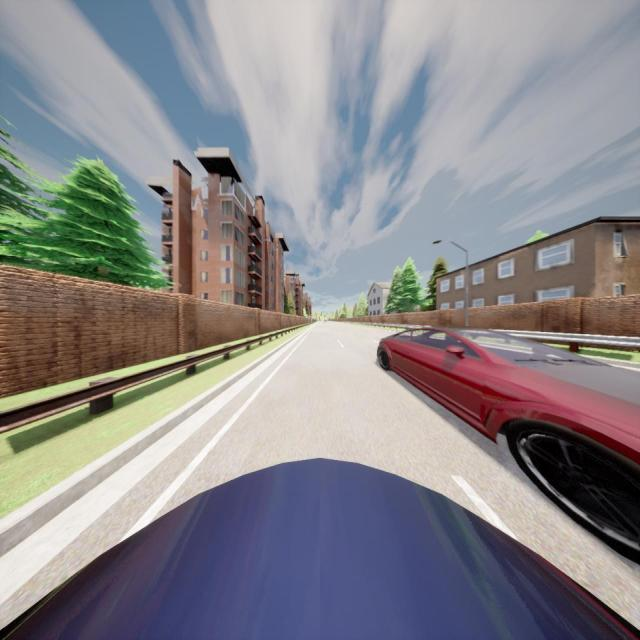Vehicle: (0, 457, 640, 640), (378, 327, 640, 562)
